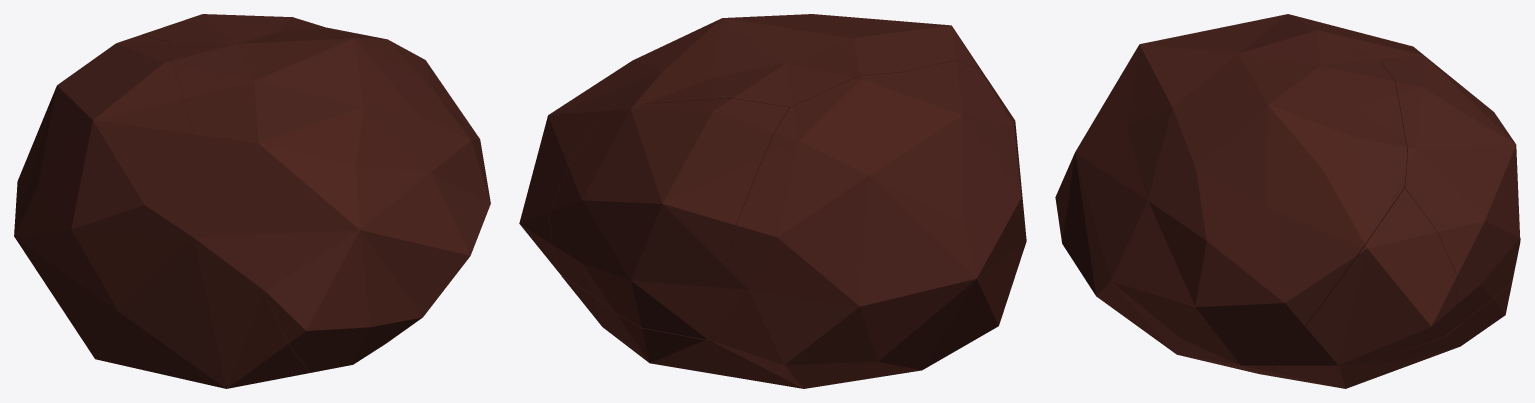
File: GoldenStone2Crack.fbx
3 views of the same model, side by side, from view 1: azimuth 30°, elevation 25°; view 2: azimuth 150°, elevation 25°; view 3: azimuth 270°, elevation 25° (orthographic). The views are drawn at different scales.
Visible parts, largest first — view 1: ValcanoStone2Cracked_cell.001, ValcanoStone2Cracked_cell, ValcanoStone2Cracked_cell.003; view 2: ValcanoStone2Cracked_cell, ValcanoStone2Cracked_cell.003, ValcanoStone2Cracked_cell.001, ValcanoStone2Cracked_cell.002, ValcanoStone2Cracked_cell.004; view 3: ValcanoStone2Cracked_cell.001, ValcanoStone2Cracked_cell.003, ValcanoStone2Cracked_cell.002, ValcanoStone2Cracked_cell.004, ValcanoStone2Cracked_cell.
Part boxes in pixels (bbox=[...]): ValcanoStone2Cracked_cell.001: bbox=[170, 18, 490, 372]; ValcanoStone2Cracked_cell: bbox=[14, 35, 310, 388]; ValcanoStone2Cracked_cell.003: bbox=[141, 14, 296, 42]; ValcanoStone2Cracked_cell: bbox=[708, 60, 1026, 388]; ValcanoStone2Cracked_cell.003: bbox=[549, 98, 789, 339]; ValcanoStone2Cracked_cell.001: bbox=[552, 14, 988, 117]; ValcanoStone2Cracked_cell.002: bbox=[519, 112, 599, 274]; ValcanoStone2Cracked_cell.004: bbox=[561, 275, 740, 378]; ValcanoStone2Cracked_cell.001: bbox=[1055, 32, 1407, 371]; ValcanoStone2Cracked_cell.003: bbox=[1380, 61, 1520, 335]; ValcanoStone2Cracked_cell.002: bbox=[1271, 188, 1456, 374]; ValcanoStone2Cracked_cell.004: bbox=[1223, 251, 1518, 388]; ValcanoStone2Cracked_cell: bbox=[1197, 14, 1520, 239].
Bounding box in the file's own units: 211 × 139 × 204.
